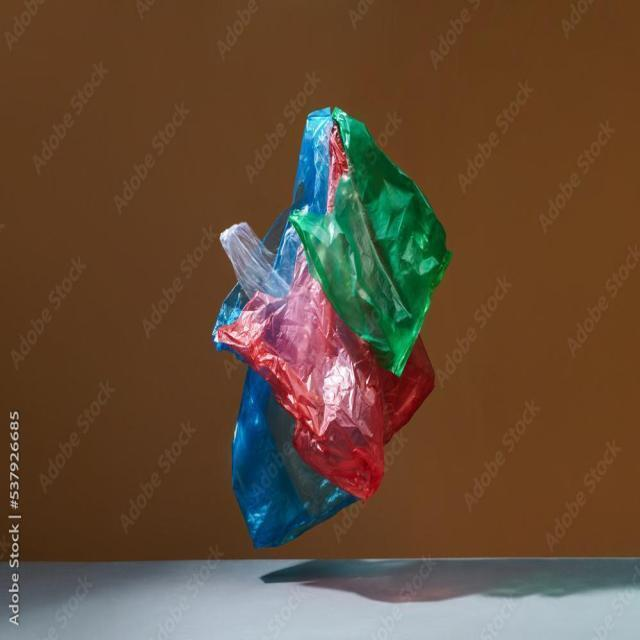Plastic_Bag: (212, 98, 450, 561)
